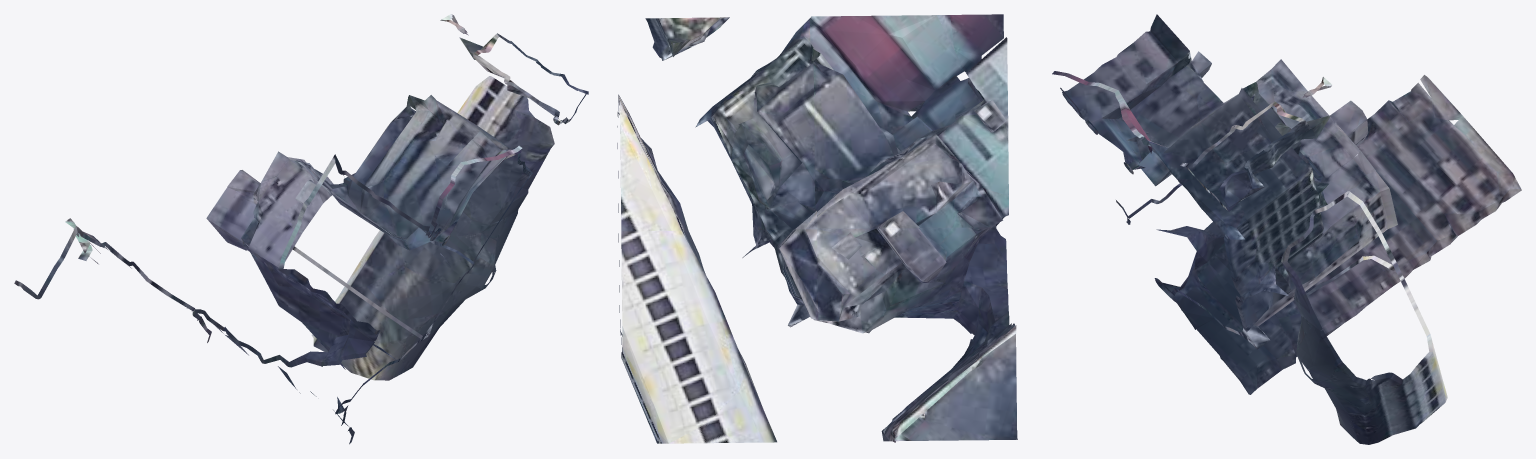
3 views of the same model, side by side, from view 1: azimuth 30°, elevation 25°; view 2: azimuth 150°, elevation 25°; view 3: azimuth 270°, elevation 25° (orthographic). The views are drawn at different scales.
Size of the model in its own units: 53.1 by 41.4 by 46.23.
1 material, 1 textured.
